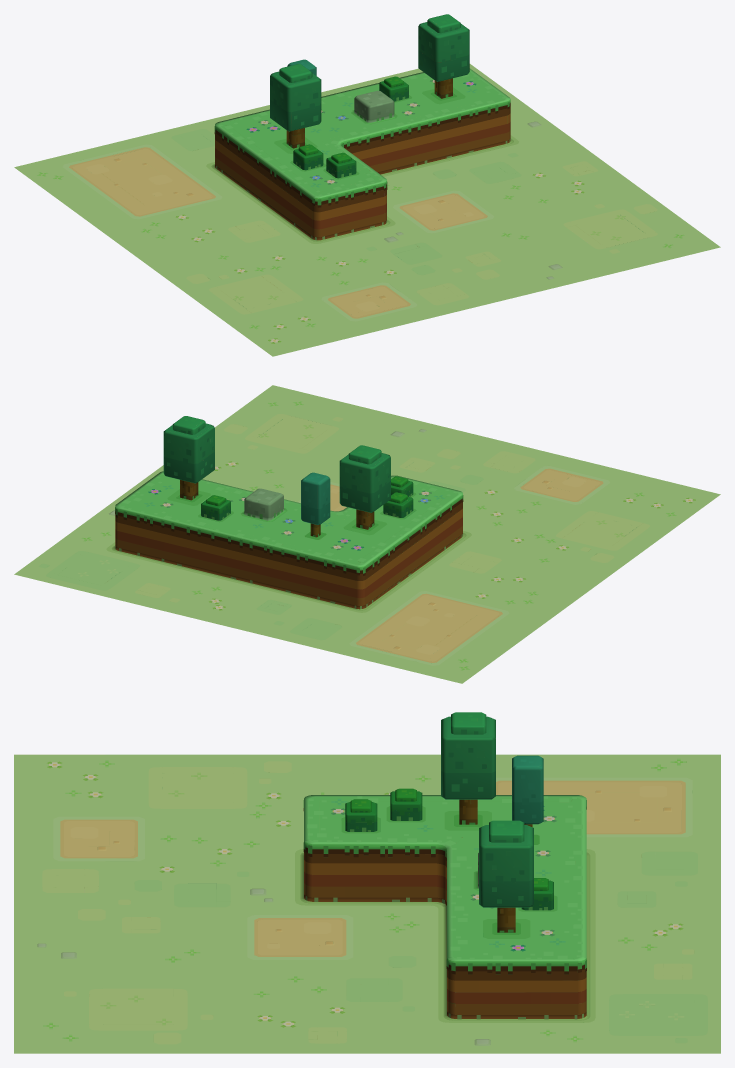
Rendered from C_grass1_07.fbx.
The picture shows the model from 3 angles, top to bottom: view 1: azimuth 30°, elevation 25°; view 2: azimuth 150°, elevation 25°; view 3: azimuth 270°, elevation 25°; orthographic projection. The views are drawn at different scales.
Parts seen in each view (by area): view 1: C_grass1_07.002; view 2: C_grass1_07.002; view 3: C_grass1_07.002.
Boxes of the visible parts, <box> form: C_grass1_07.002: <box>14,14,720,356</box>; C_grass1_07.002: <box>14,385,720,683</box>; C_grass1_07.002: <box>14,712,720,1053</box>.
Bounding box in the file's own units: 50 × 12.68 × 50.
